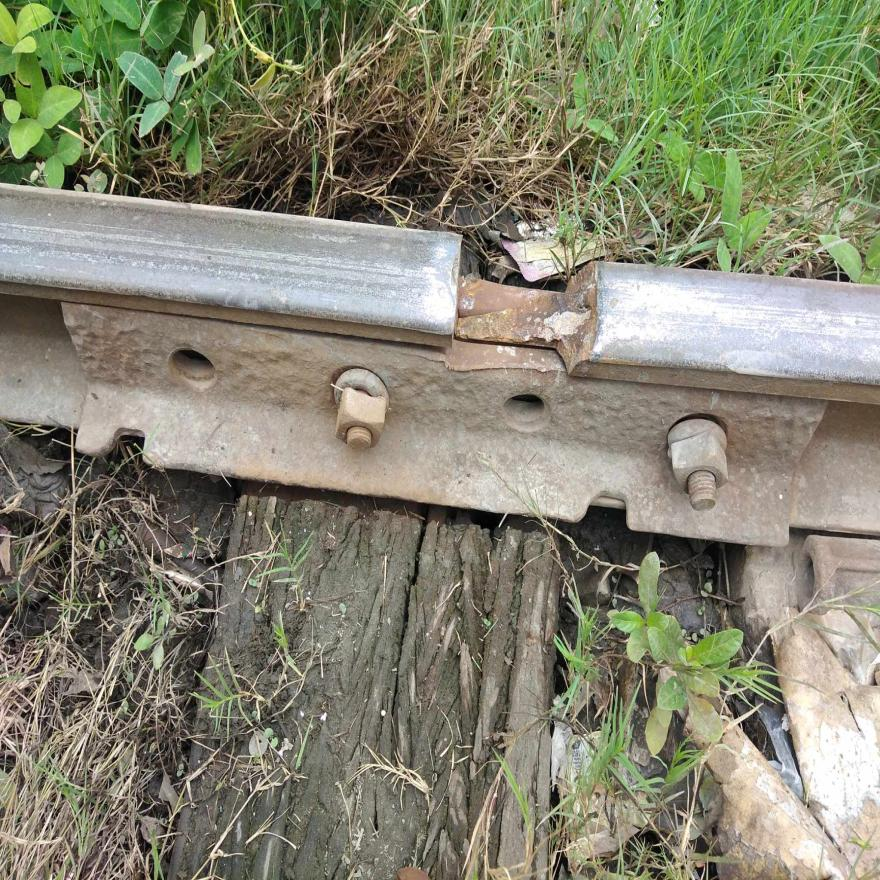railway-gap: (413, 186, 630, 413)
